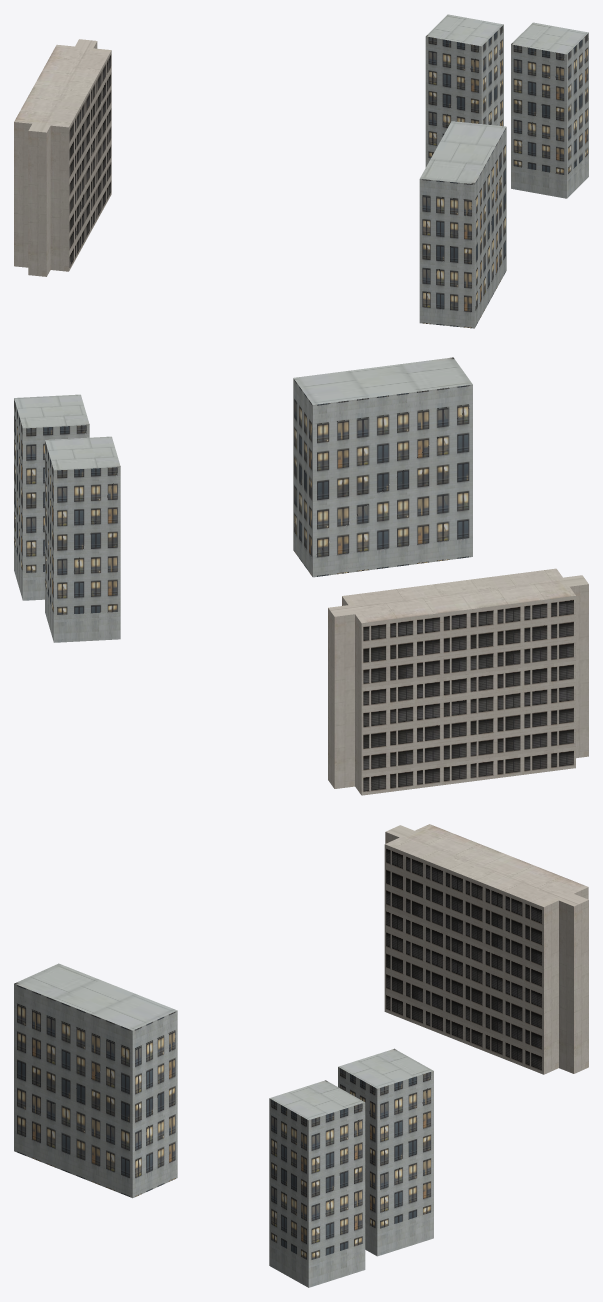
The model's file is Buildings.fbx.
The picture shows the model from 3 angles, top to bottom: view 1: azimuth 30°, elevation 25°; view 2: azimuth 150°, elevation 25°; view 3: azimuth 270°, elevation 25°; orthographic projection. The views are drawn at different scales.
Visible parts, largest first — view 1: Plane.004, Plane.005, Plane.002, Plane.006; view 2: Plane.004, Plane.005, Plane.006, Plane.002; view 3: Plane.004, Plane.005, Plane.002, Plane.006.
Part boxes in pixels (left/top/right/bottom): Plane.004: left=14, top=39, right=111, bottom=276; Plane.005: left=419, top=121, right=506, bottom=328; Plane.002: left=511, top=22, right=588, bottom=198; Plane.006: left=425, top=14, right=503, bottom=167; Plane.004: left=328, top=568, right=588, bottom=795; Plane.005: left=293, top=357, right=472, bottom=577; Plane.006: left=45, top=436, right=120, bottom=642; Plane.002: left=14, top=394, right=89, bottom=600; Plane.004: left=384, top=824, right=588, bottom=1074; Plane.005: left=14, top=963, right=177, bottom=1198; Plane.002: left=269, top=1080, right=365, bottom=1287; Plane.006: left=338, top=1048, right=433, bottom=1256.
Bounding box in the file's own units: 21391 × 5642 × 17543.
Materials: 2 (2 with a texture image).
